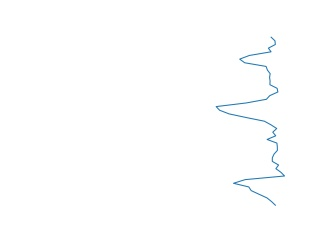underwaterNaturalLevee: (211, 33, 289, 211)
